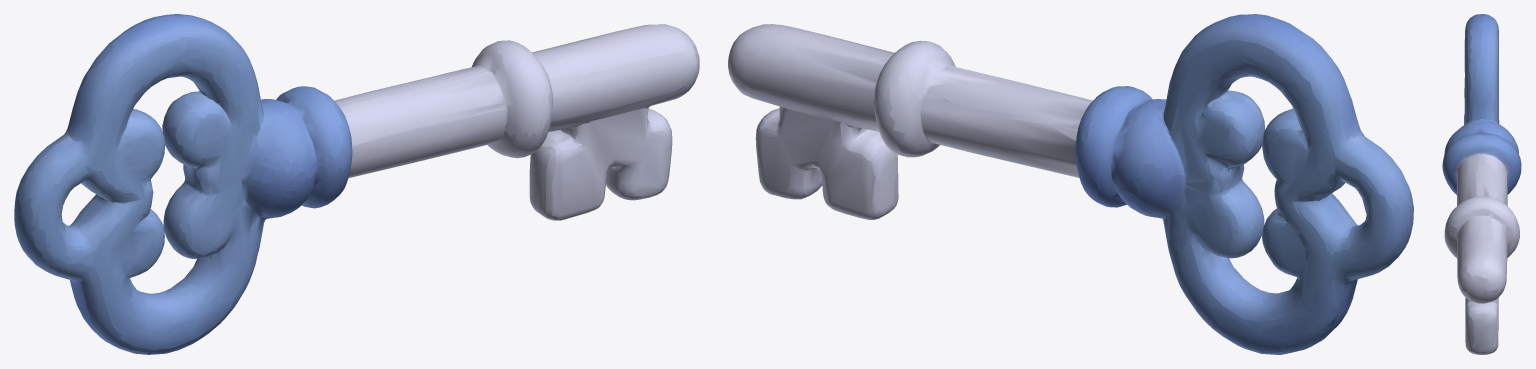
File: i_private.glb
3 renders of one model, left to right at view 1: azimuth 30°, elevation 25°; view 2: azimuth 150°, elevation 25°; view 3: azimuth 270°, elevation 25°, orthographic. The views are drawn at different scales.
Visible parts, largest first — view 1: geometry_0; view 2: geometry_0; view 3: geometry_0.
Boxes of the visible parts, <box> form: geometry_0: <box>14,14,699,354</box>; geometry_0: <box>728,14,1413,354</box>; geometry_0: <box>1442,14,1521,354</box>.
Bounding box in the file's own units: 0.13 × 0.061 × 0.0208.
Materials: 1 (1 with a texture image).
